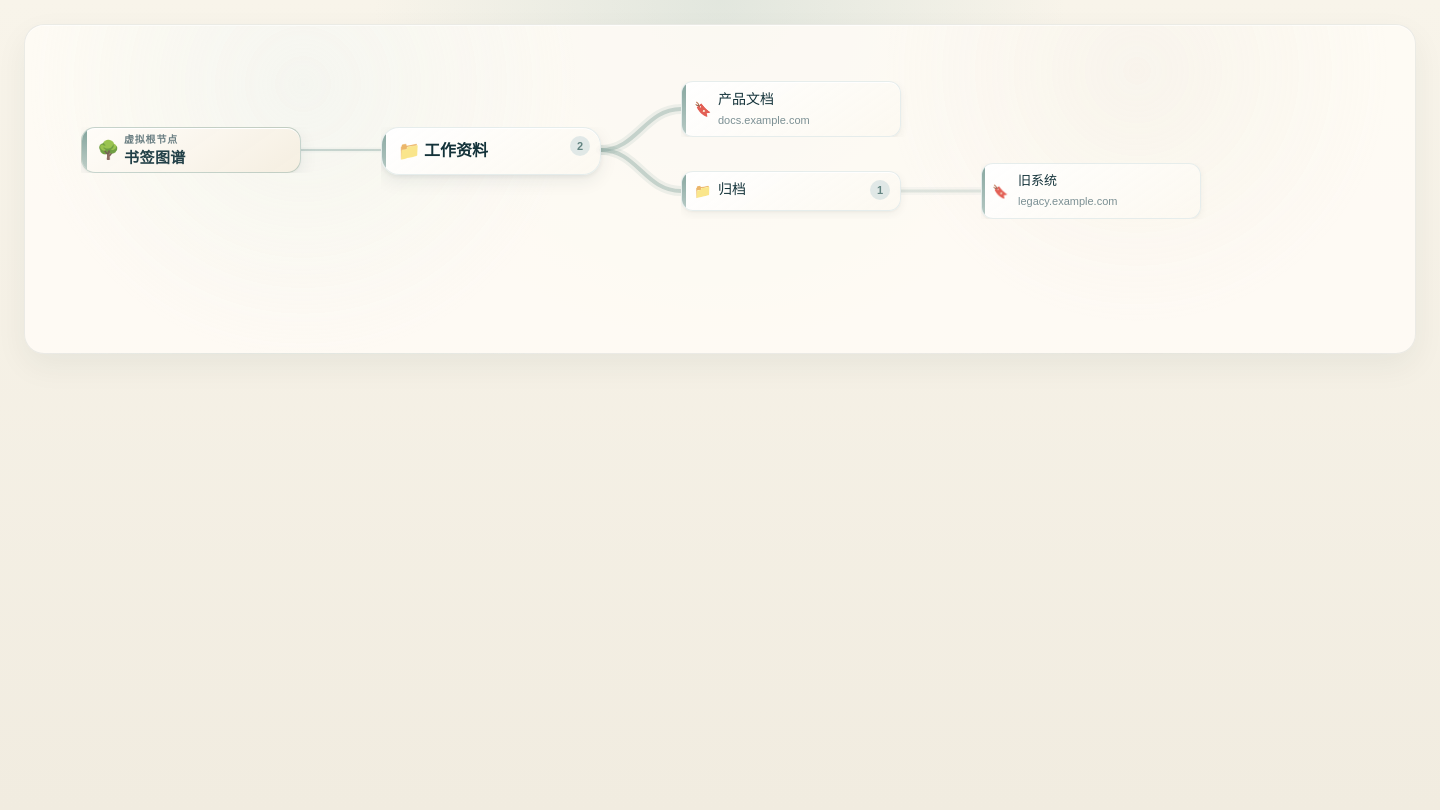
Test case: T06 draft graph workspace interaction gate › create-child dialog traps focus at both modal boundaries and restores focus on close
This screenshot has width=1440, height=810.
Press Enter in the button with aria-label "目录节点：工作资料", box [381,127,601,175]
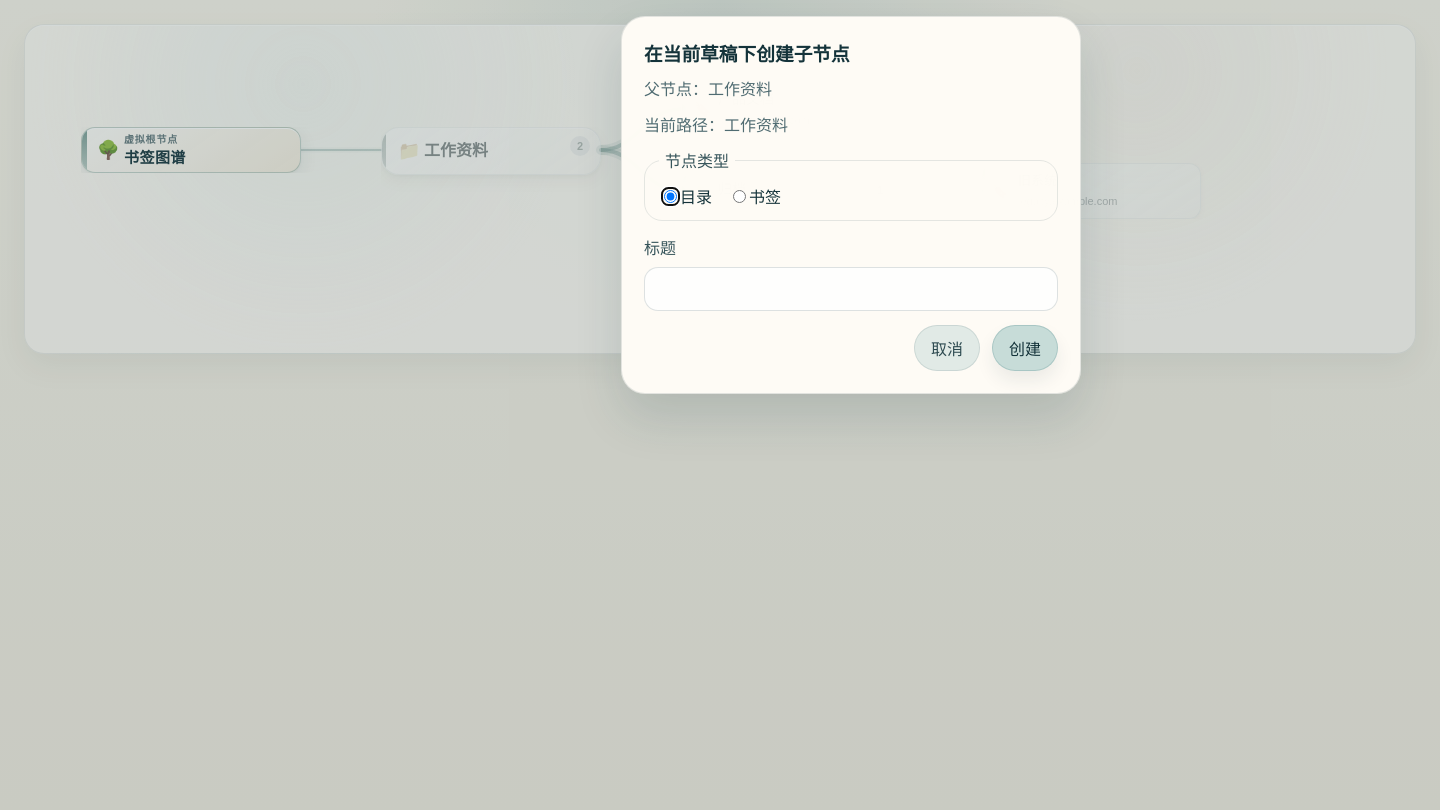
Press Tab in the button "创建", box [992,325,1058,371]
Press Tab in the radio button labelled "目录", box [664,190,677,203]
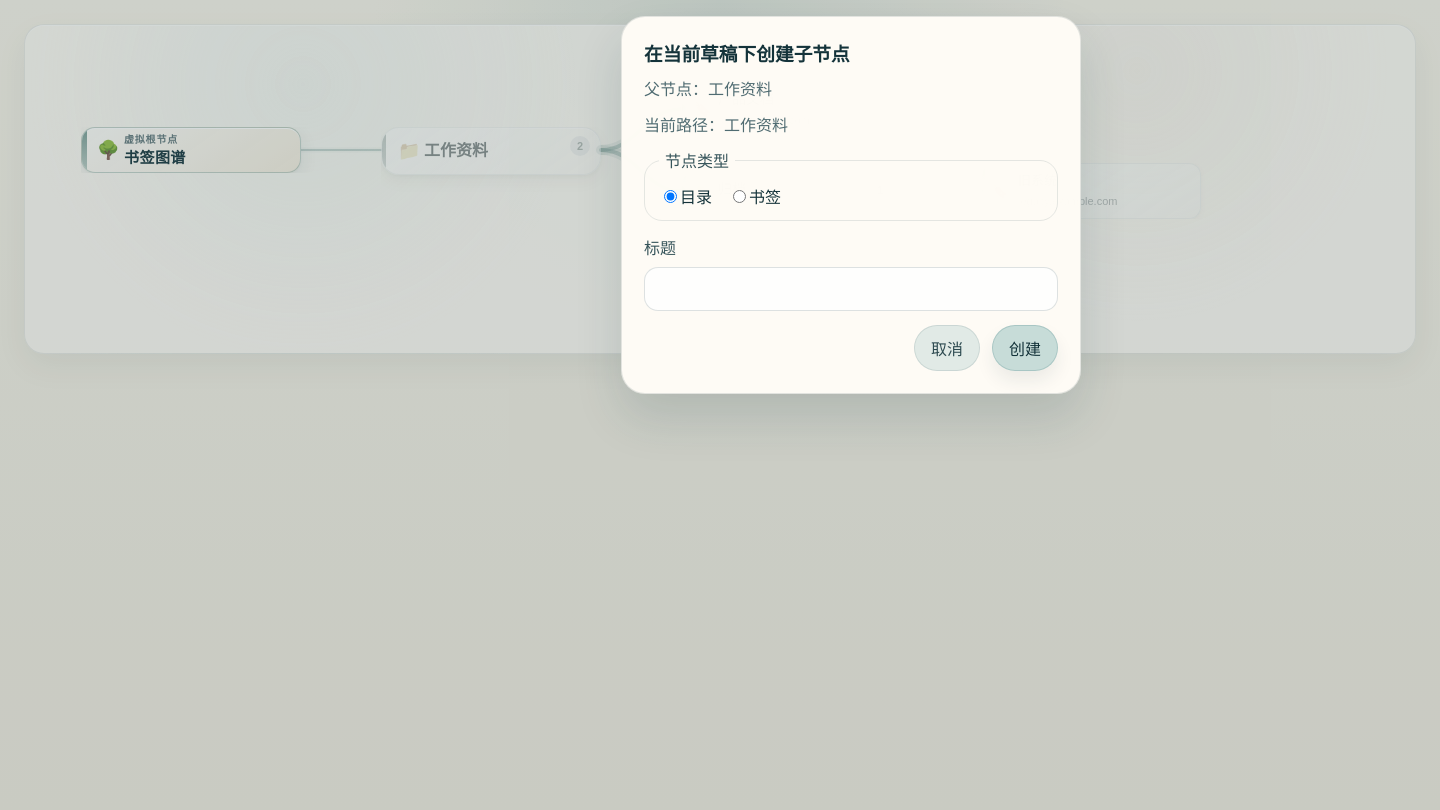
Click the radio button labelled "书签": (740, 196) [733,190,746,203]
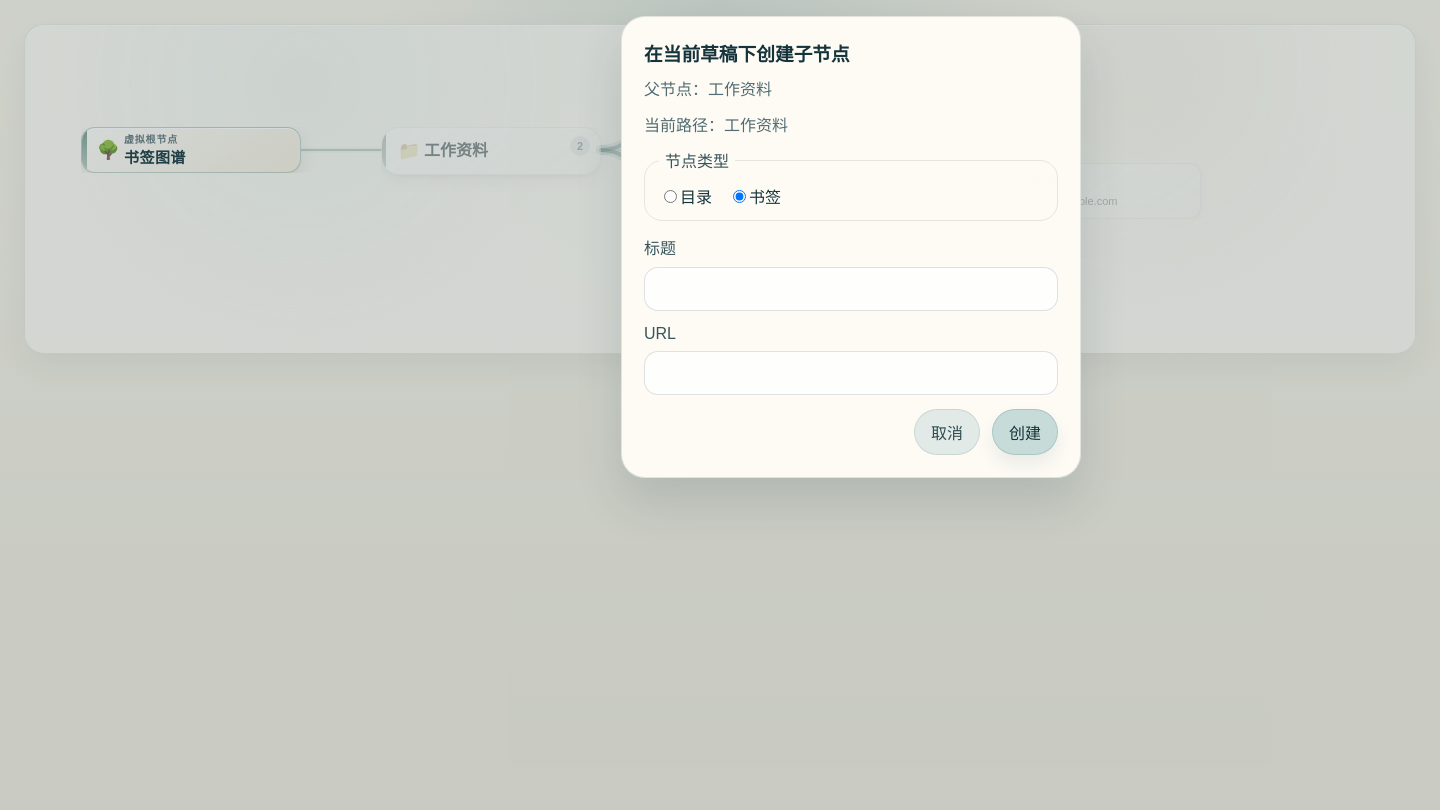
Expected: the field labelled "URL" is shown, [644,351,1058,395]
Press Tab in the button "创建", box [992,409,1058,455]
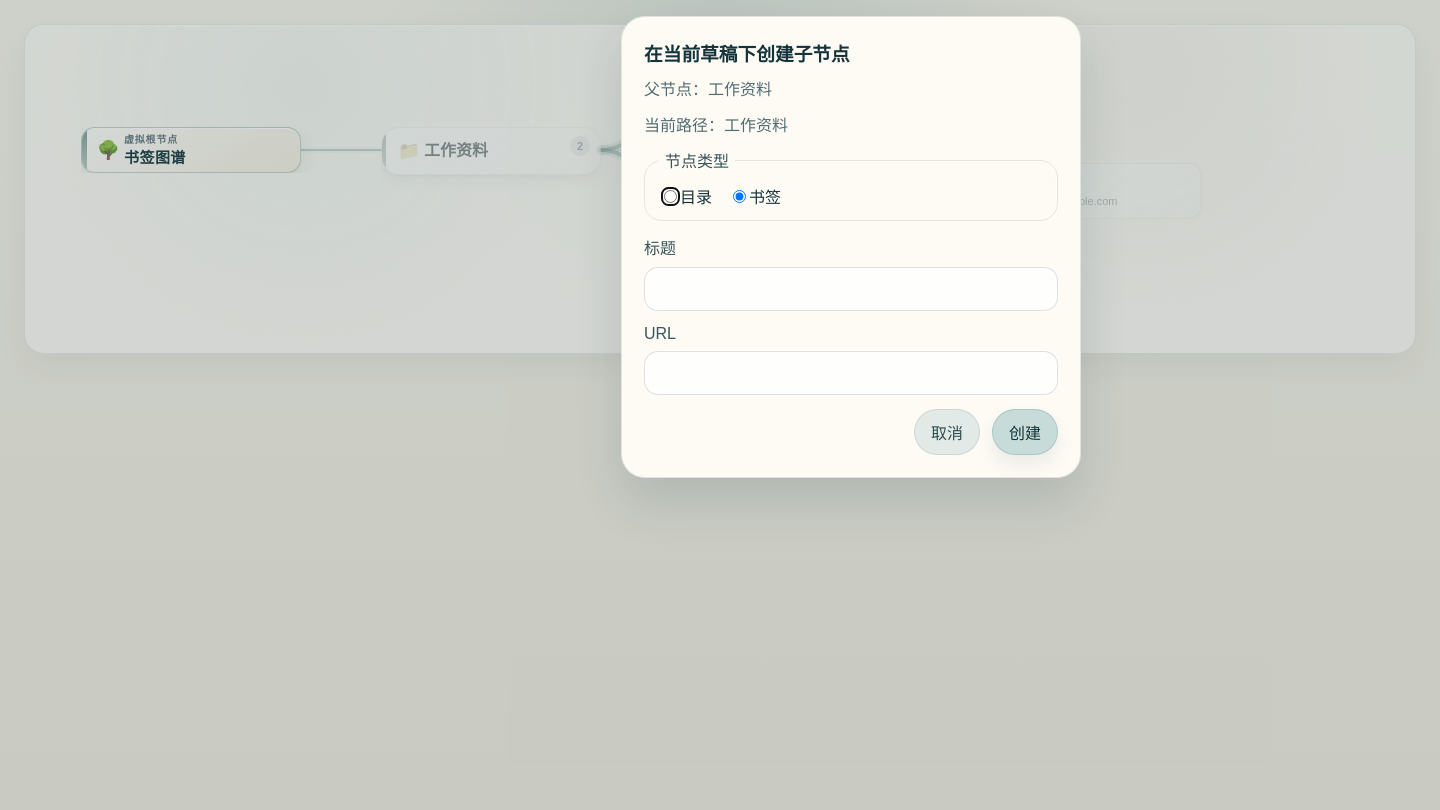
Click the button "取消": (947, 432) [914,409,980,455]
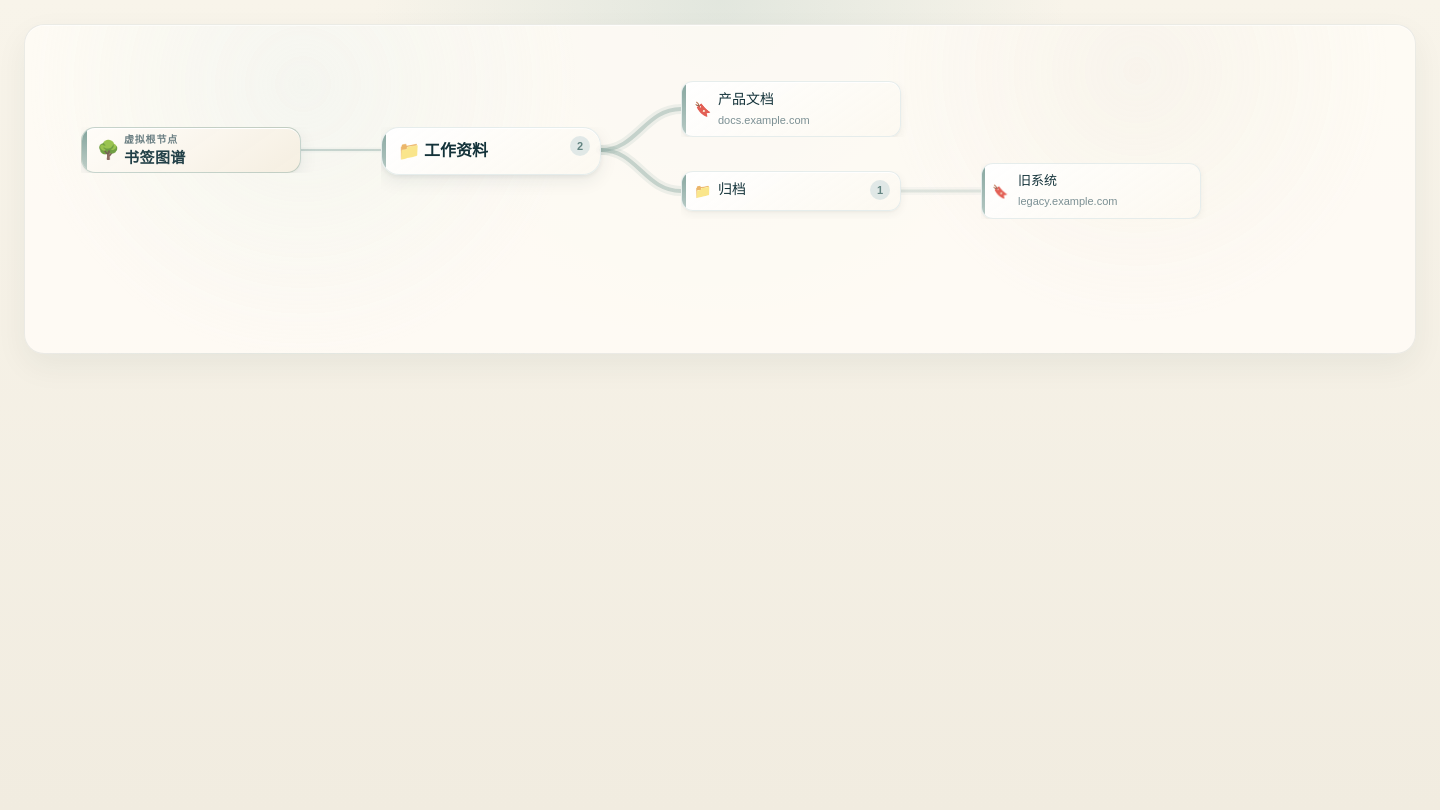
Expected: the dialog is gone
